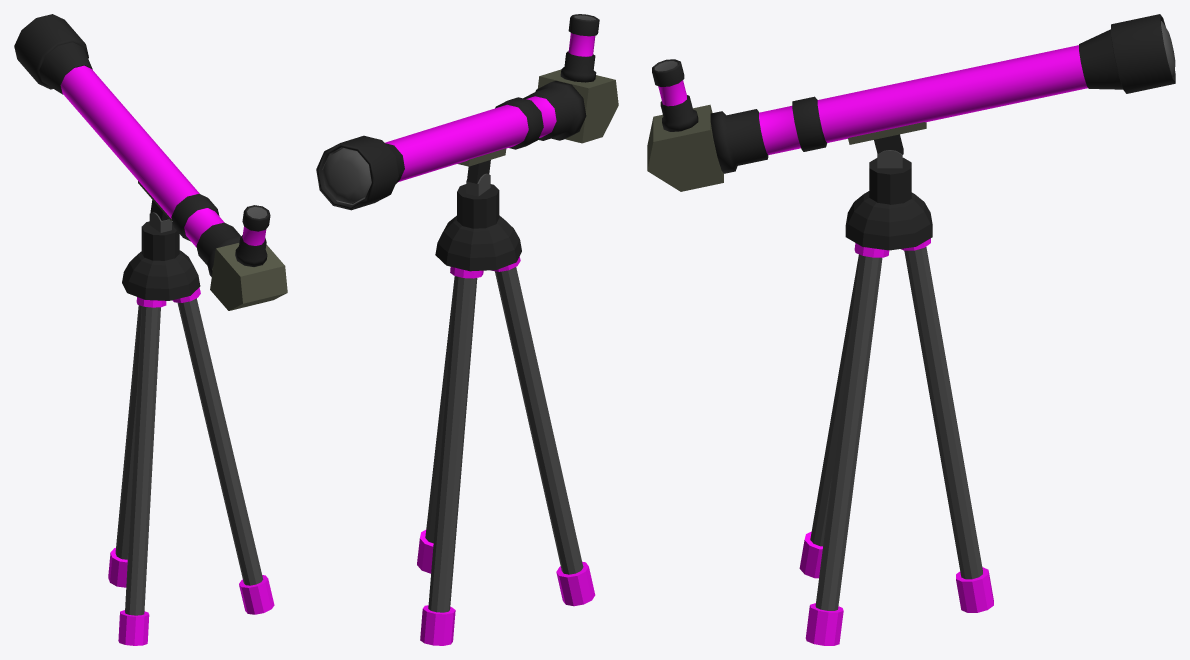
The model's file is Telescope.fbx.
The picture shows the model from 3 angles, left to right: view 1: azimuth 30°, elevation 25°; view 2: azimuth 150°, elevation 25°; view 3: azimuth 270°, elevation 25°; orthographic projection. The views are drawn at different scales.
Parts seen in each view (by area): view 1: telescope; view 2: telescope; view 3: telescope.
Part boxes in pixels (left/top/right/bottom): telescope: left=14, top=14, right=287, bottom=645; telescope: left=316, top=14, right=618, bottom=645; telescope: left=647, top=14, right=1175, bottom=645.
Bounding box in the file's own units: 9.37 × 29.34 × 23.84.
